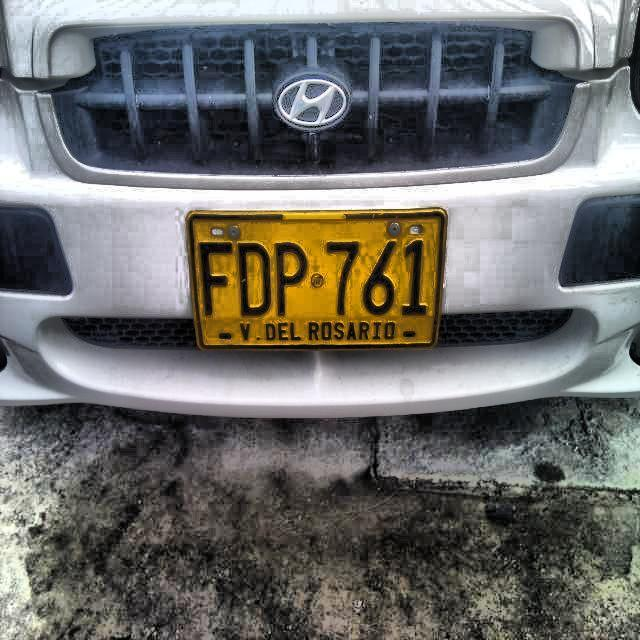plate: (189, 214, 443, 347)
